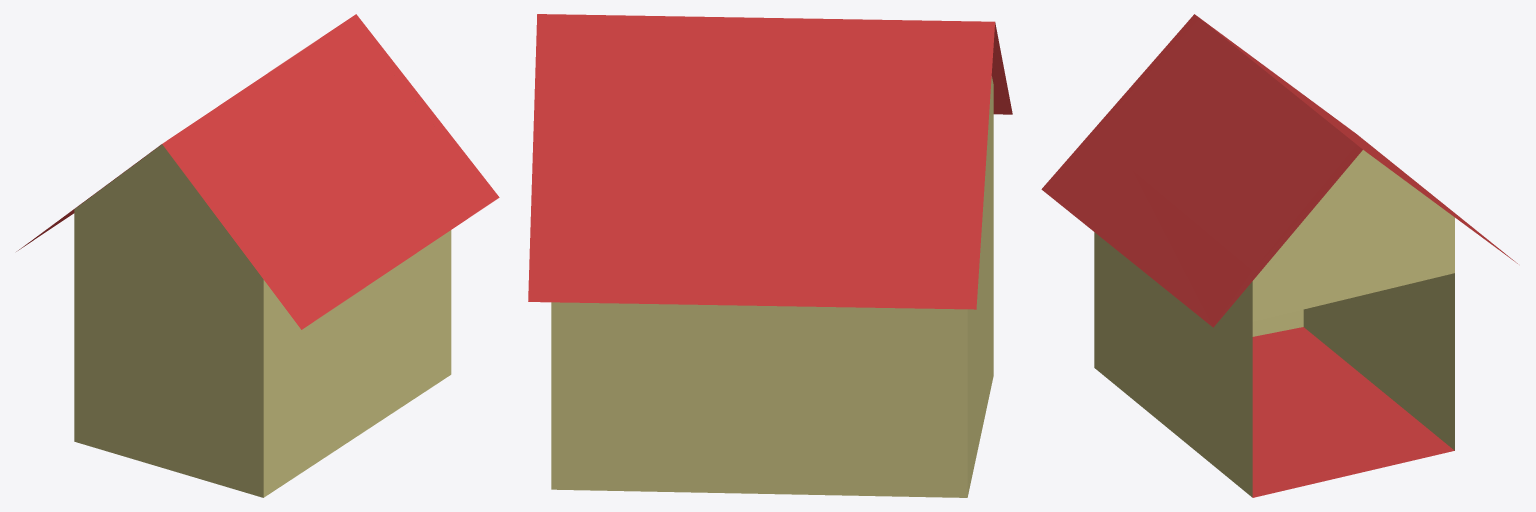
3 views of the same model, side by side, from view 1: azimuth 30°, elevation 25°; view 2: azimuth 150°, elevation 25°; view 3: azimuth 270°, elevation 25° (orthographic). The views are drawn at different scales.
Bounding box in the file's own units: 19.28 × 19.45 × 14.7.
